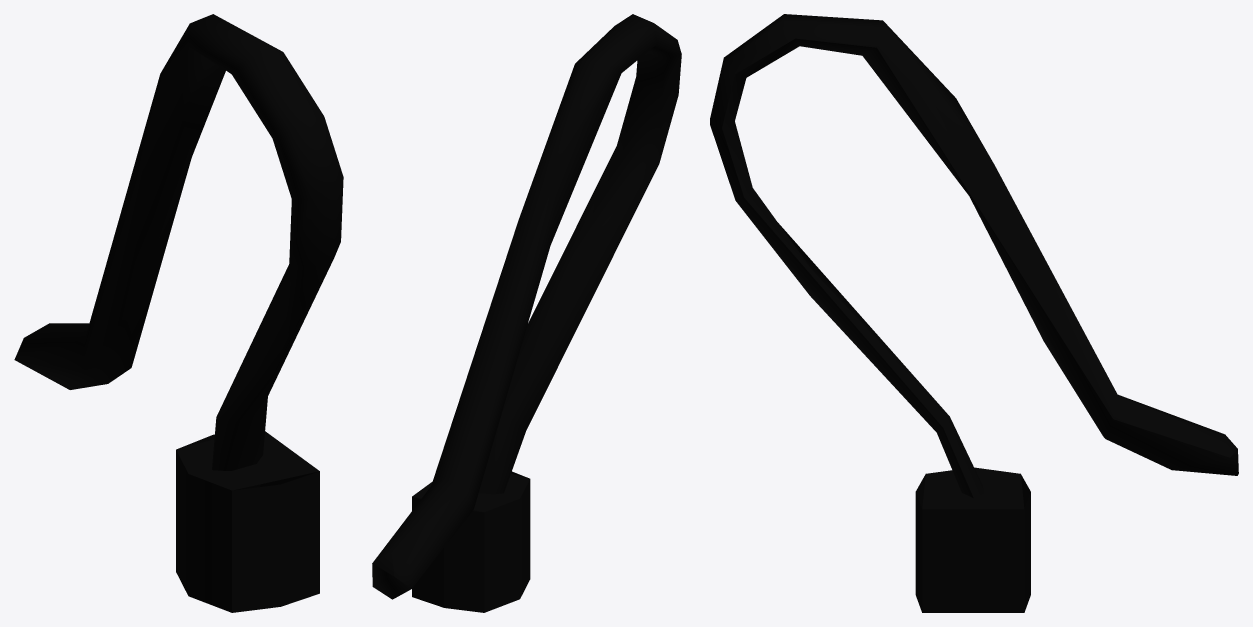
Rendered from powercord1_lod2.fbx.
3 views of the same model, side by side, from view 1: azimuth 30°, elevation 25°; view 2: azimuth 150°, elevation 25°; view 3: azimuth 270°, elevation 25° (orthographic). The views are drawn at different scales.
Parts seen in each view (by area): view 1: cord4, plug4; view 2: cord4, plug4; view 3: cord4, plug4.
Part boxes in pixels (x1=…): cord4: x1=14, y1=14, x2=343, y2=490; plug4: x1=176, y1=431, x2=319, y2=612; cord4: x1=372, y1=14, x2=681, y2=599; plug4: x1=412, y1=471, x2=530, y2=612; cord4: x1=710, y1=14, x2=1238, y2=498; plug4: x1=915, y1=467, x2=1030, y2=612.
Size of the model in its own units: 0.1712 by 0.6389 by 0.5671.
